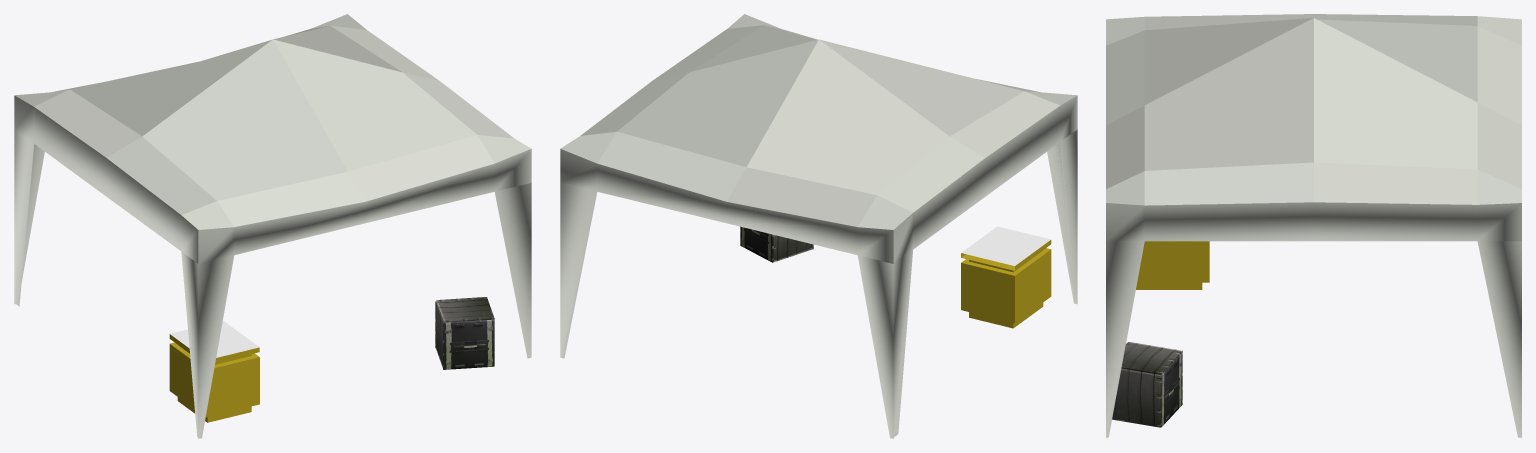
File: AVSS.fbx
3 views of the same model, side by side, from view 1: azimuth 30°, elevation 25°; view 2: azimuth 150°, elevation 25°; view 3: azimuth 270°, elevation 25° (orthographic). The views are drawn at different scales.
Parts seen in each view (by area): view 1: Tent, deskAVSS, Plane.005; view 2: Tent, deskAVSS, Plane.005; view 3: Tent, Plane.005, deskAVSS.
Part boxes in pixels (x1,y1,x2,y2): Tent: (14,14,531,438); deskAVSS: (169,320,259,422); Plane.005: (435,297,494,369); Tent: (560,14,1077,438); deskAVSS: (961,226,1051,328); Plane.005: (740,226,813,262); Tent: (1106,14,1521,438); Plane.005: (1112,342,1182,427); deskAVSS: (1136,241,1209,289).
Size of the model in its own units: 369 by 309 by 353.
Materials: 5 (2 with a texture image).
